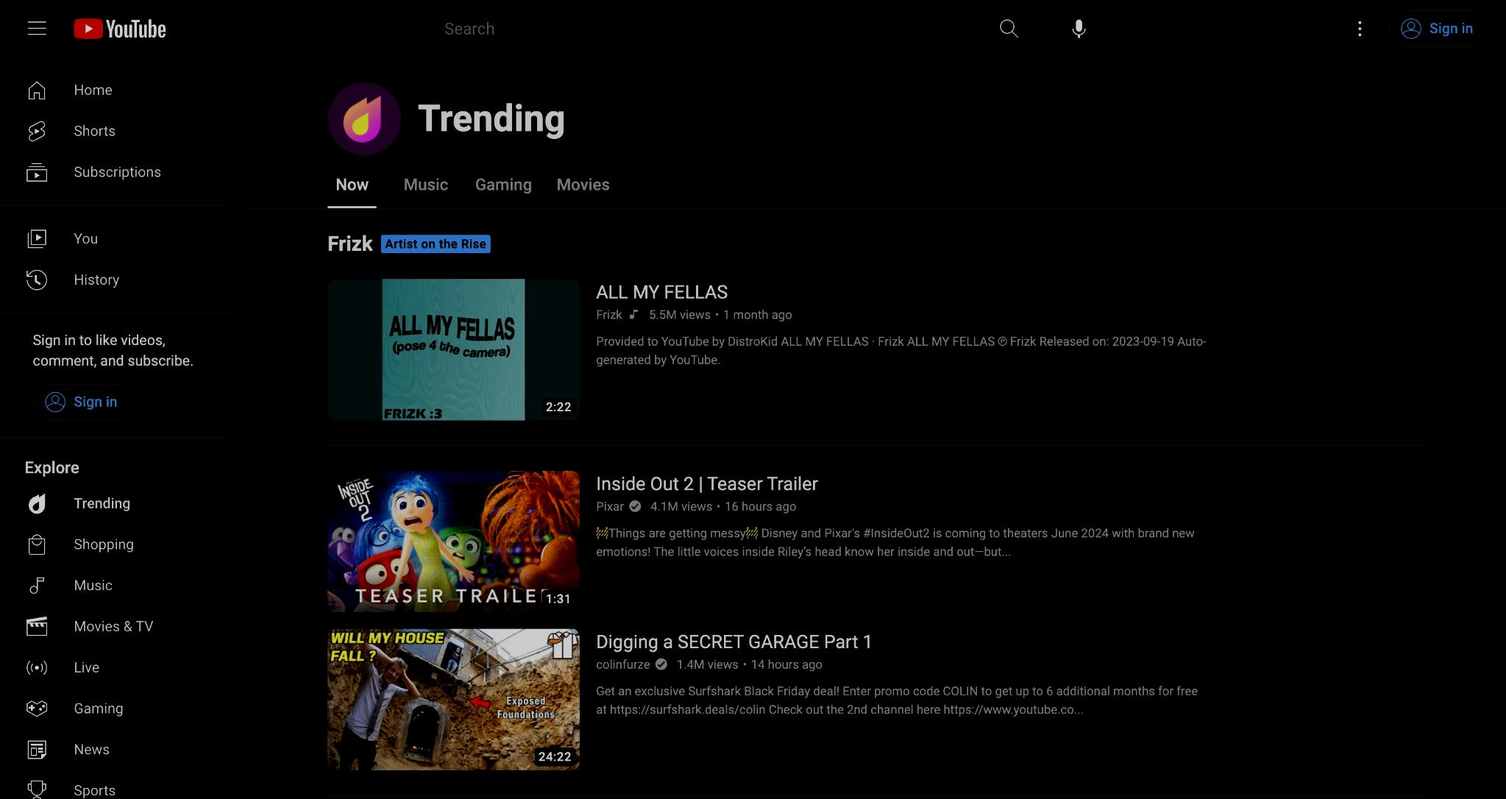webelement: (245, 56, 1506, 799), (1083, 327, 1493, 799), (0, 0, 1505, 56), (328, 160, 1425, 208), (327, 278, 579, 419), (327, 470, 579, 611), (327, 628, 579, 769), (445, 15, 972, 41), (327, 160, 609, 208), (12, 151, 221, 192), (12, 217, 221, 258), (12, 482, 221, 523), (12, 523, 221, 564), (12, 605, 221, 646), (12, 646, 221, 687), (12, 69, 221, 109), (12, 110, 221, 150), (12, 259, 221, 299), (12, 565, 221, 605), (12, 688, 221, 728), (12, 729, 221, 769), (56, 0, 179, 56), (418, 97, 565, 140), (12, 770, 221, 799), (596, 631, 873, 652), (327, 81, 401, 155), (596, 473, 818, 494), (1388, 10, 1489, 46), (32, 383, 133, 419), (596, 281, 727, 303), (475, 160, 533, 208), (977, 8, 1042, 48), (556, 160, 609, 208), (327, 160, 376, 208), (402, 160, 450, 208), (1059, 8, 1100, 48), (1339, 8, 1379, 48), (1171, 267, 1211, 307), (1171, 459, 1211, 499), (1171, 617, 1211, 657), (712, 496, 796, 515), (739, 654, 823, 673), (413, 340, 494, 358), (710, 305, 791, 323), (413, 532, 494, 550), (413, 689, 494, 707), (385, 236, 486, 250), (327, 228, 372, 257), (676, 654, 738, 673), (651, 496, 712, 515), (649, 305, 710, 323), (596, 654, 651, 673), (1429, 19, 1473, 36), (73, 393, 117, 410), (24, 16, 48, 40), (1347, 16, 1371, 40), (596, 496, 625, 515), (596, 305, 624, 323), (538, 750, 570, 761), (545, 400, 570, 412), (545, 592, 570, 604), (621, 307, 640, 321), (649, 657, 668, 671), (624, 498, 642, 512)
